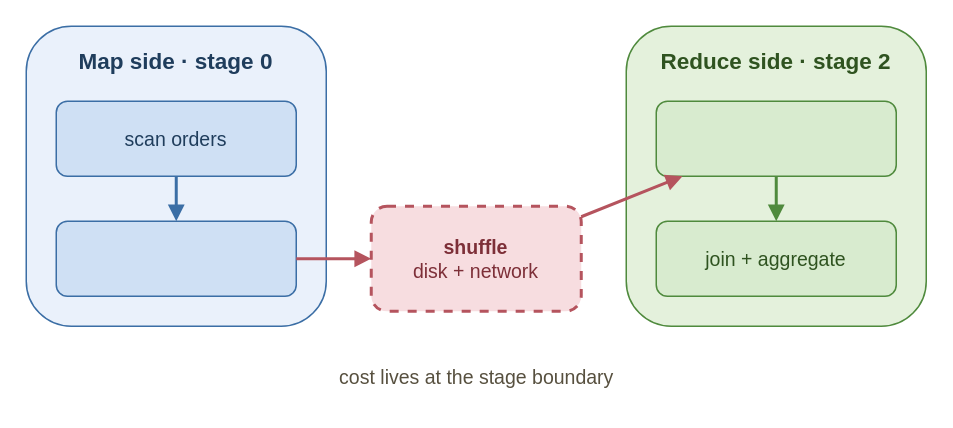
This 953x428 diagram has some shape labels left out. The centre of each missing label's shape, as x and y in pixels:
"fetch blocks" belongs at pixel 775 138.
"write shuffle files" belongs at pixel 175 258.
